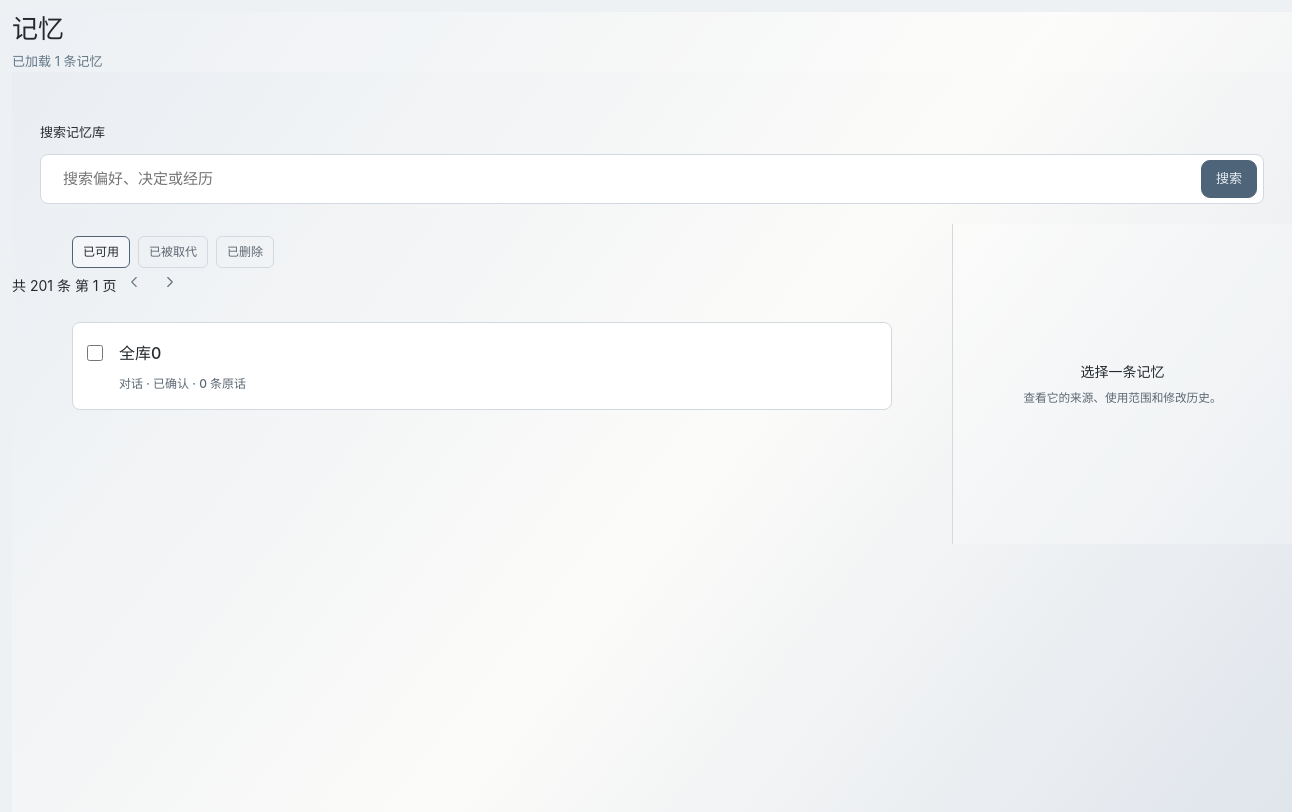
Test case: authoritatively hides off-page selected detail on external deleted
The width and height of the screenshot is (1292, 812).
Click the button "全库0 对话 · 已确认 · 0 条原话" at (140, 353), box [111, 323, 877, 409]
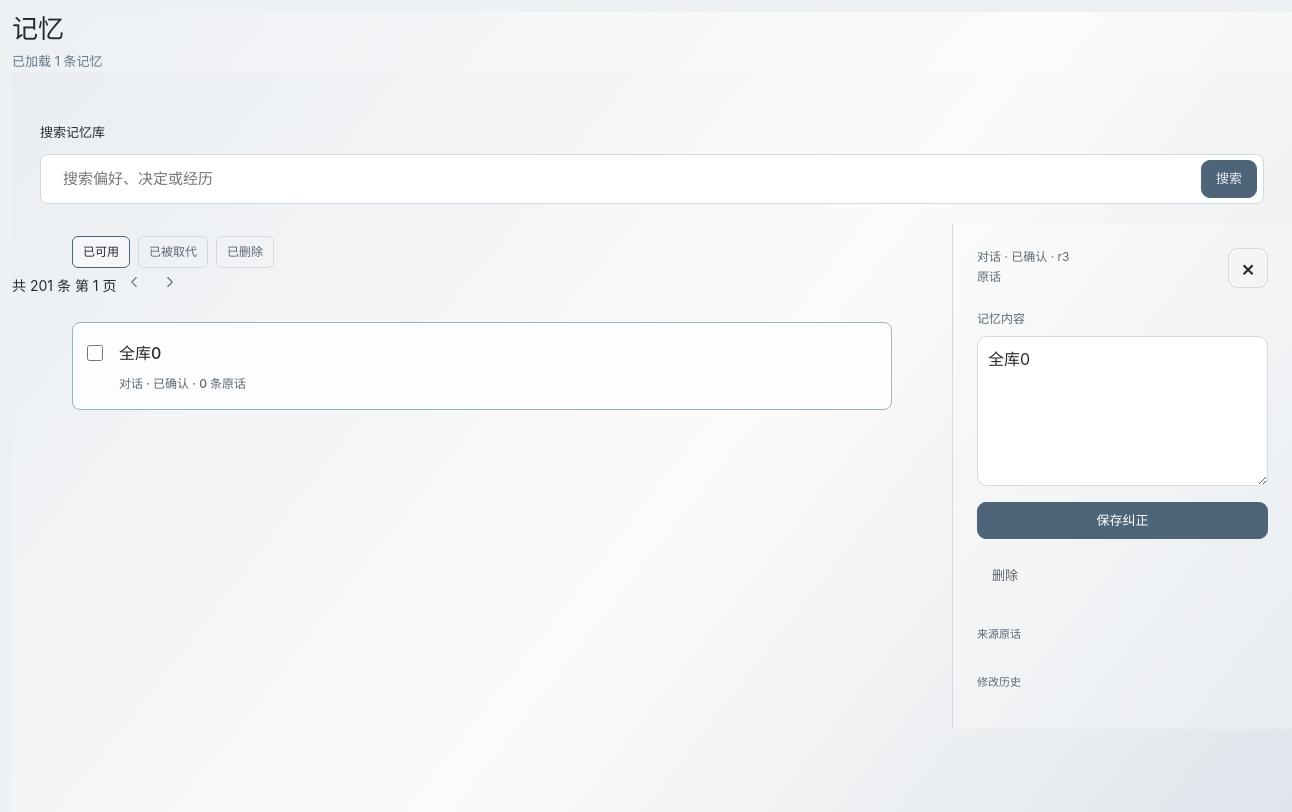
Replace the text in the text box labelled "记忆内容" with "本地未保存草稿" at (1122, 411), box [977, 336, 1268, 486]
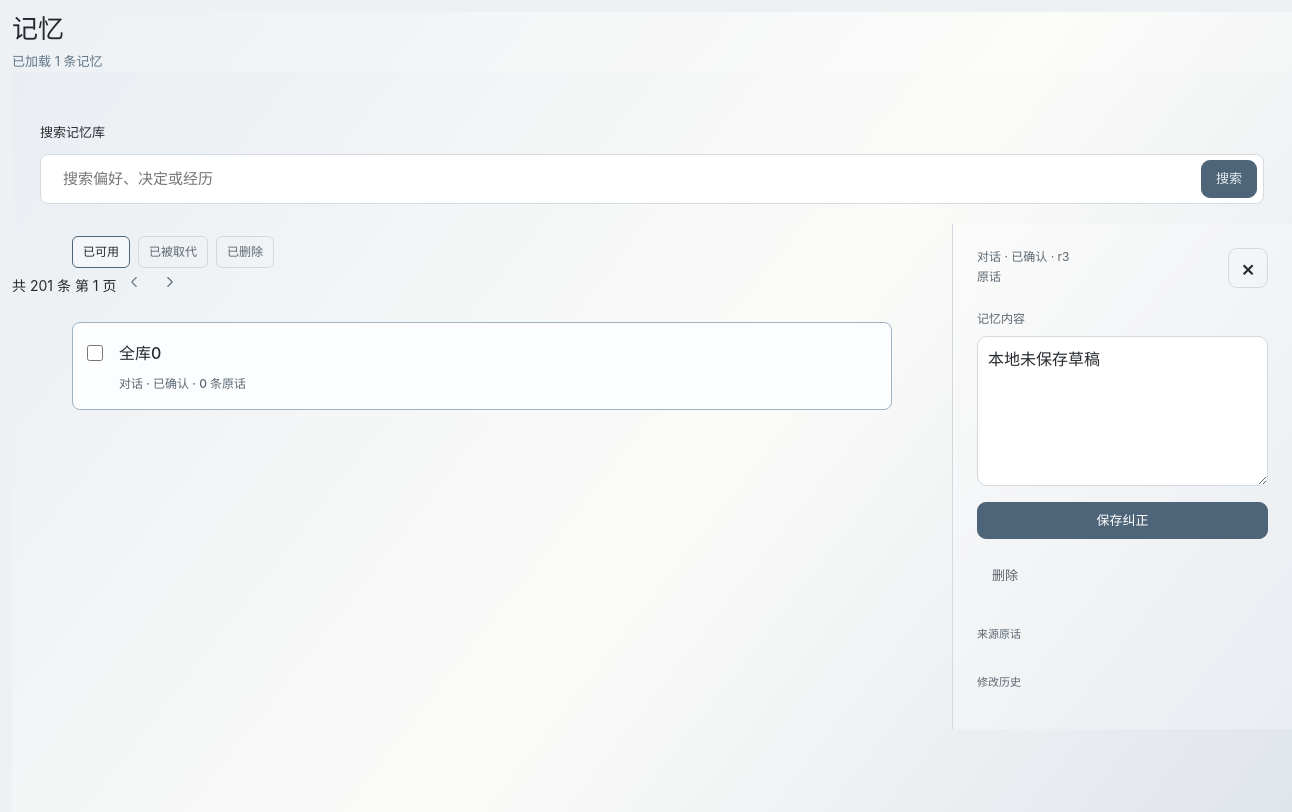
Click the button named "下一页" at (170, 286), box [152, 268, 188, 304]
Wait 10000 ms
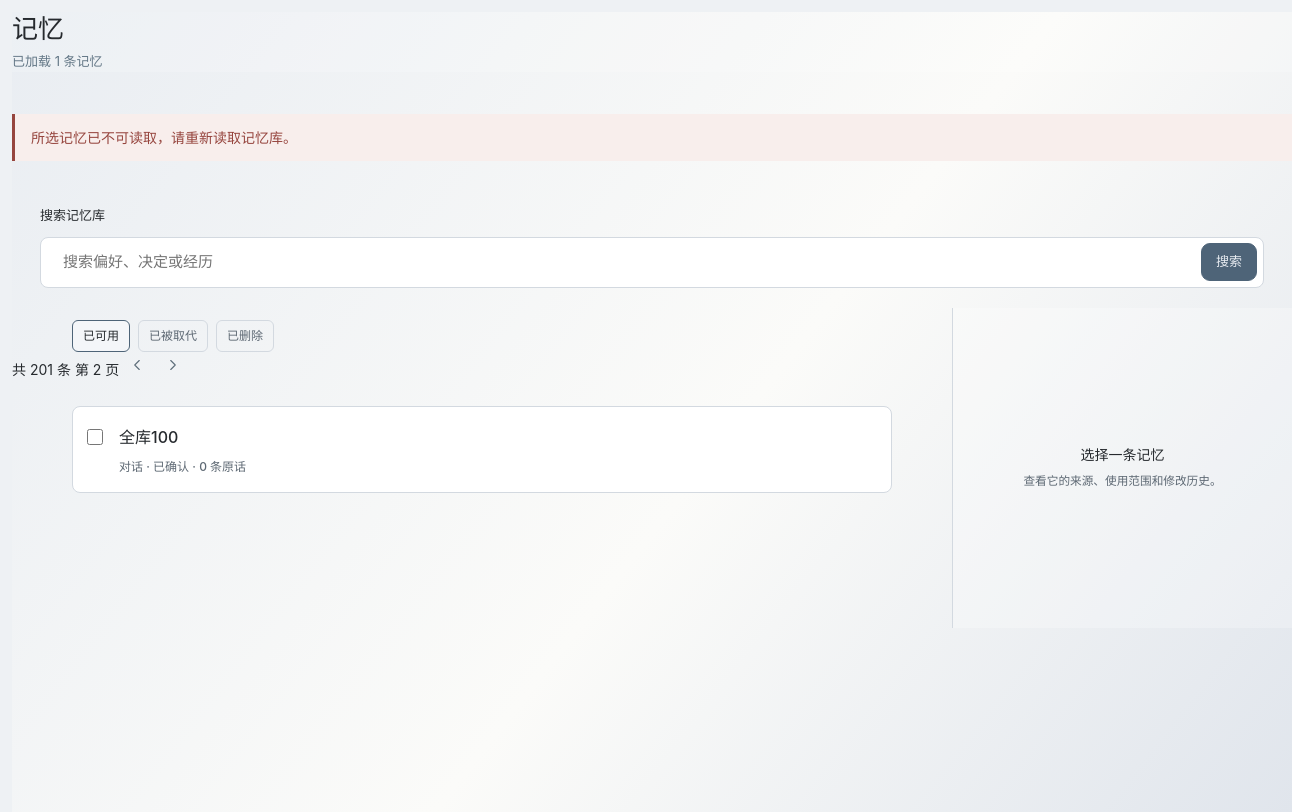
Now the label "记忆内容" is gone
Now the message shows "已不可读取", box [31, 129, 297, 146]
